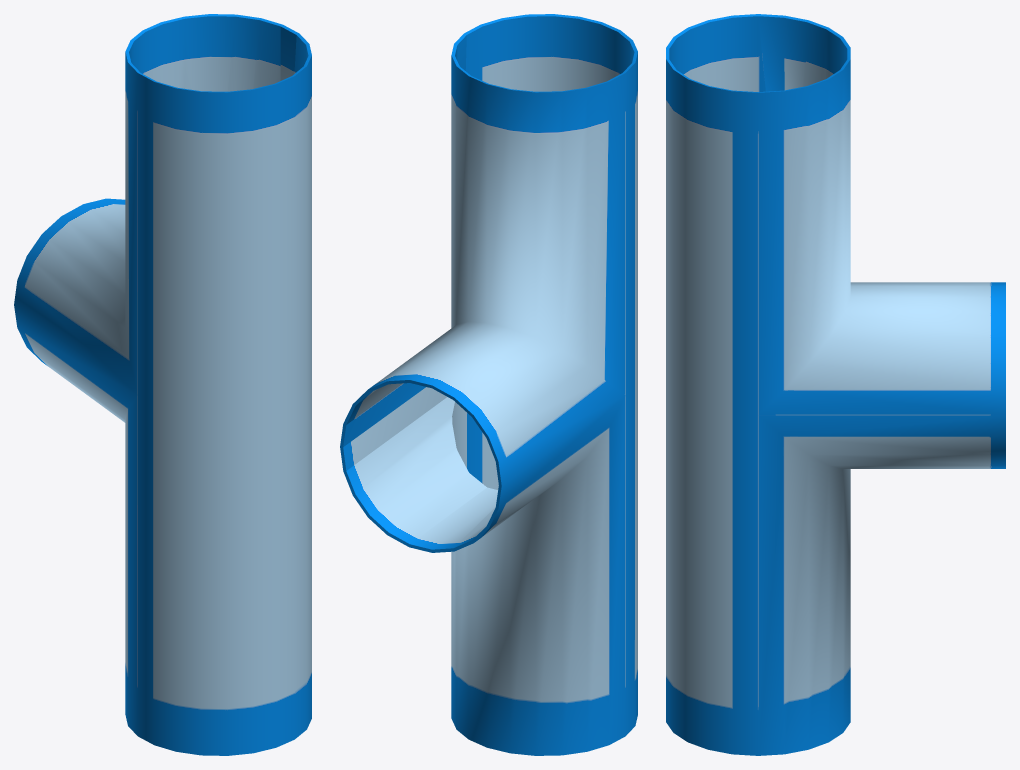
Rendered from FUT0110023.fbx.
3 views of the same model, side by side, from view 1: azimuth 30°, elevation 25°; view 2: azimuth 150°, elevation 25°; view 3: azimuth 270°, elevation 25° (orthographic).
Visible parts, largest first — view 1: smFUT0110023; view 2: smFUT0110023; view 3: smFUT0110023.
Boxes of the visible parts, x1,y1,x2,y2 form: smFUT0110023: (14,14,311,755); smFUT0110023: (340,14,637,755); smFUT0110023: (666,14,1005,755).
Size of what is drawn, in the model's own units: 215 by 841 by 391.
1 material, 1 textured.
